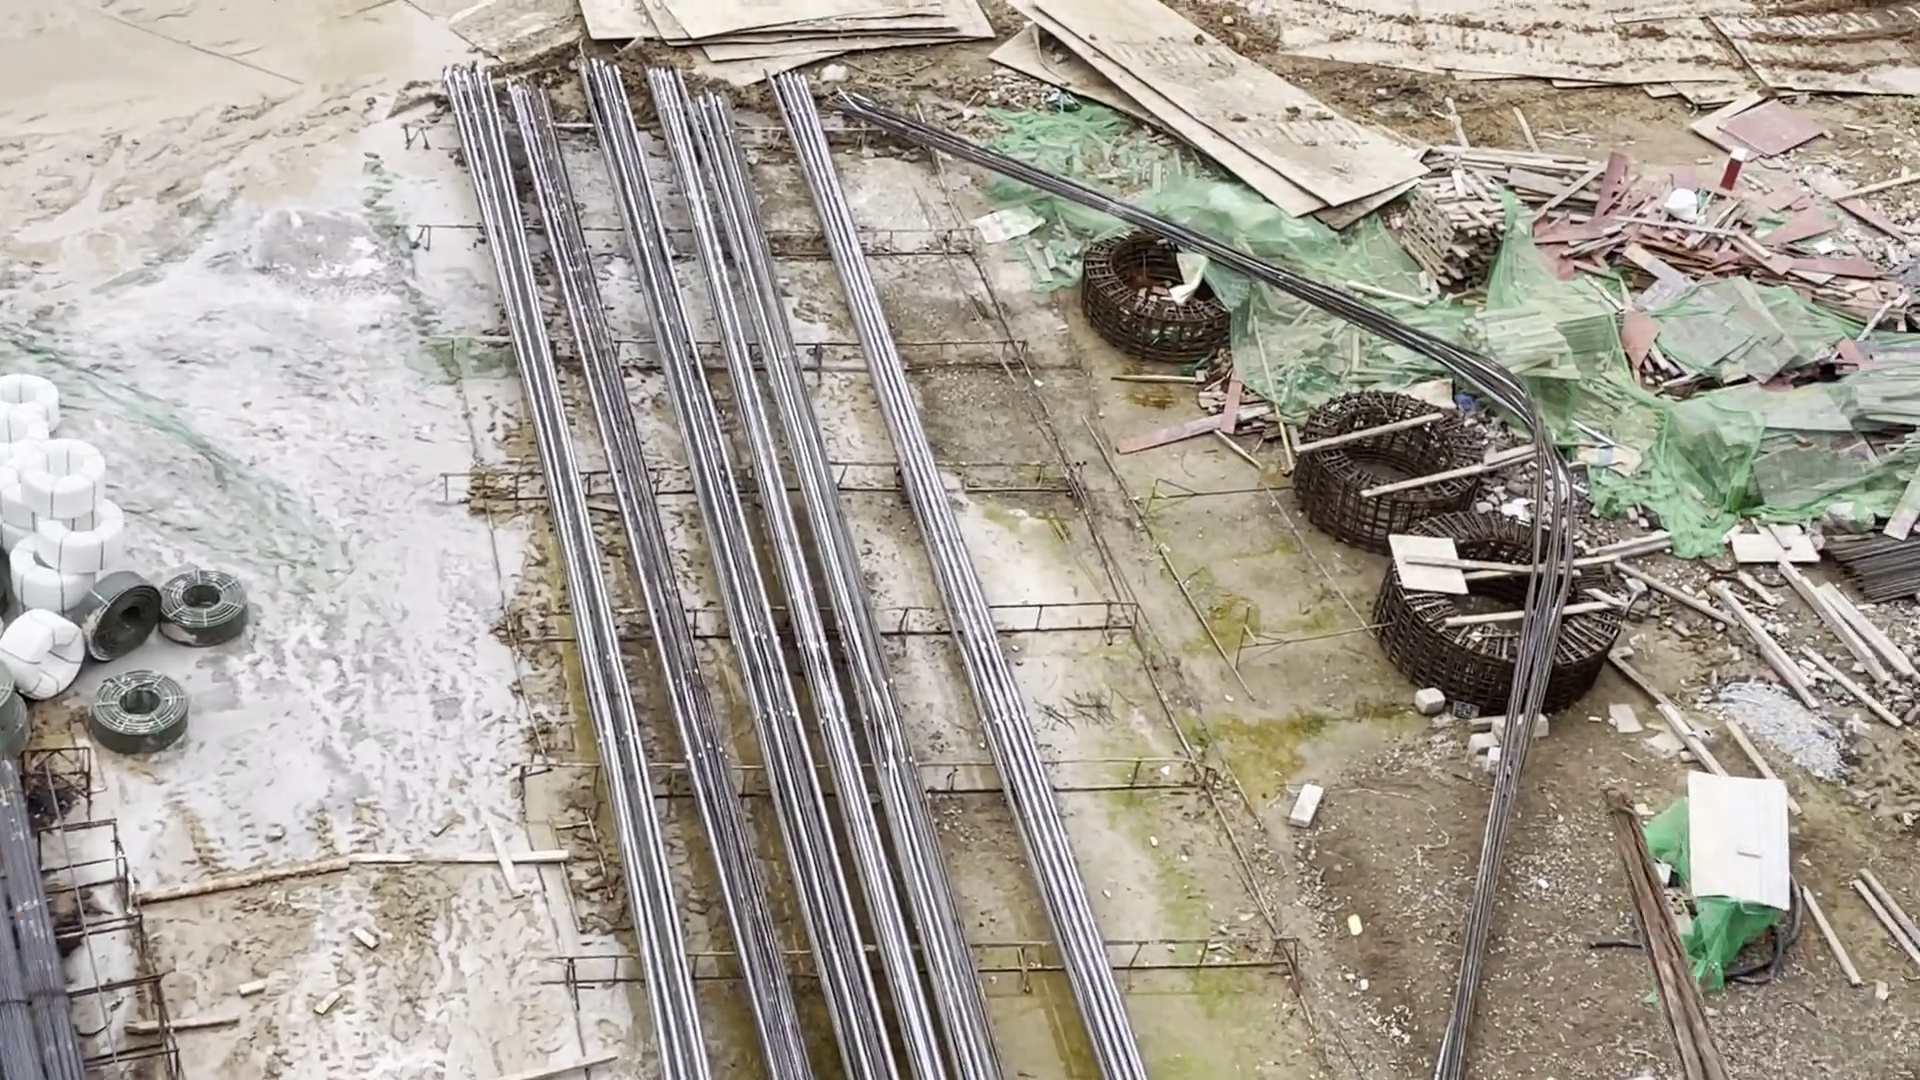board: (1561, 181, 1845, 287)
rebar: (438, 65, 1006, 1077)
